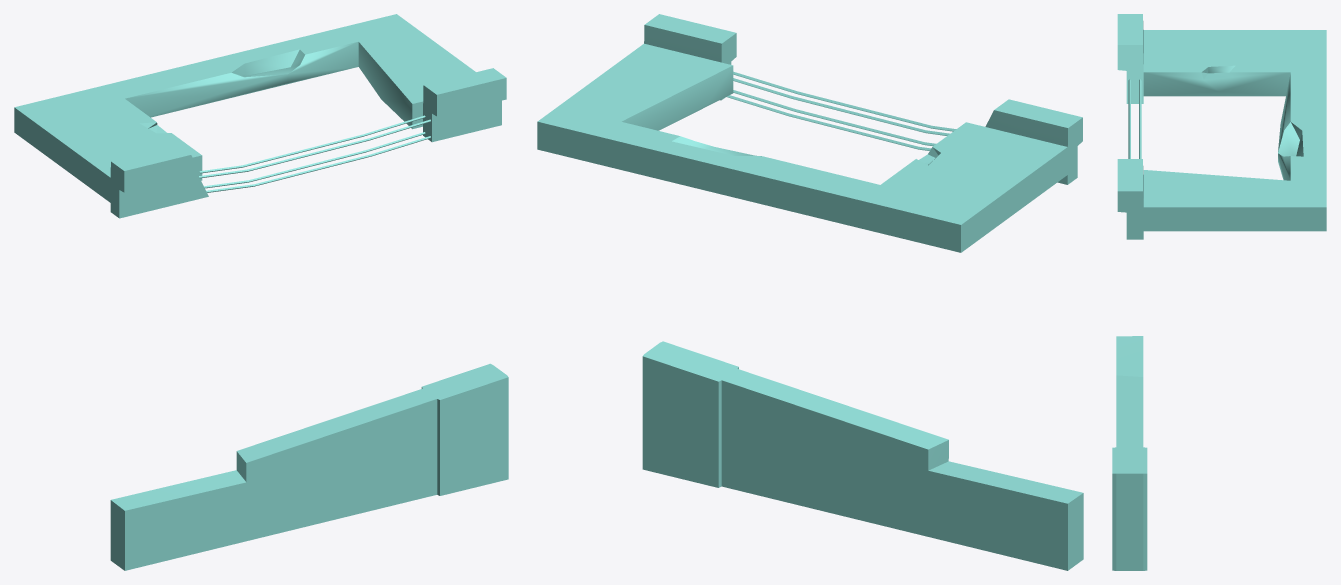
File: DinerWallRuined2_Collision.fbx
3 renders of one model, left to right at view 1: azimuth 30°, elevation 25°; view 2: azimuth 150°, elevation 25°; view 3: azimuth 270°, elevation 25°, orthographic. The views are drawn at different scales.
Visible parts, largest first — view 1: DinerWallRuined2_Collision; view 2: DinerWallRuined2_Collision; view 3: DinerWallRuined2_Collision.
Boxes of the visible parts, x1,y1,x2,y2 form: DinerWallRuined2_Collision: (14, 14, 508, 570); DinerWallRuined2_Collision: (537, 14, 1083, 570); DinerWallRuined2_Collision: (1112, 14, 1326, 570).
Size of the model in its own units: 3.52 by 3.51 by 1.8.
